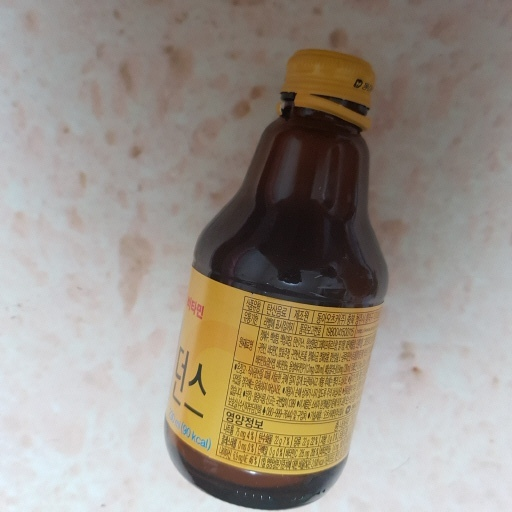Glass_3: (161, 49, 394, 512)
